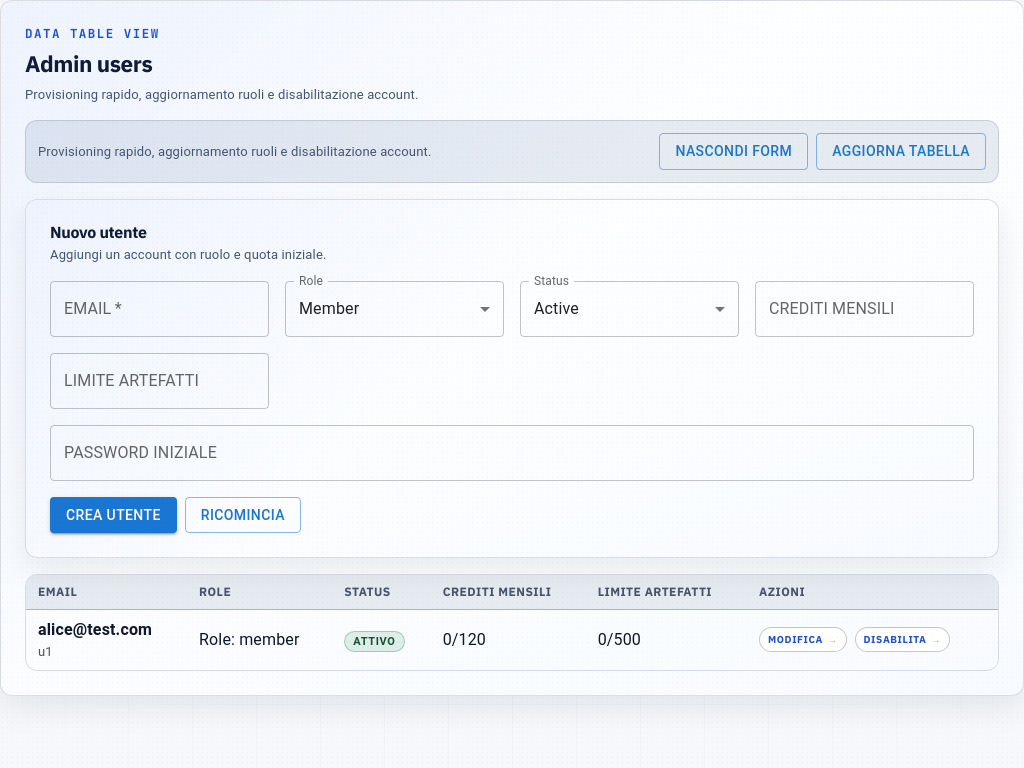
it: AdminUsersPage › disables an existing user
Expected: the text "alice@test.com" is shown, [38,620,152,639]
Click the button "Disabilita": (902, 640) [854,627,950,652]
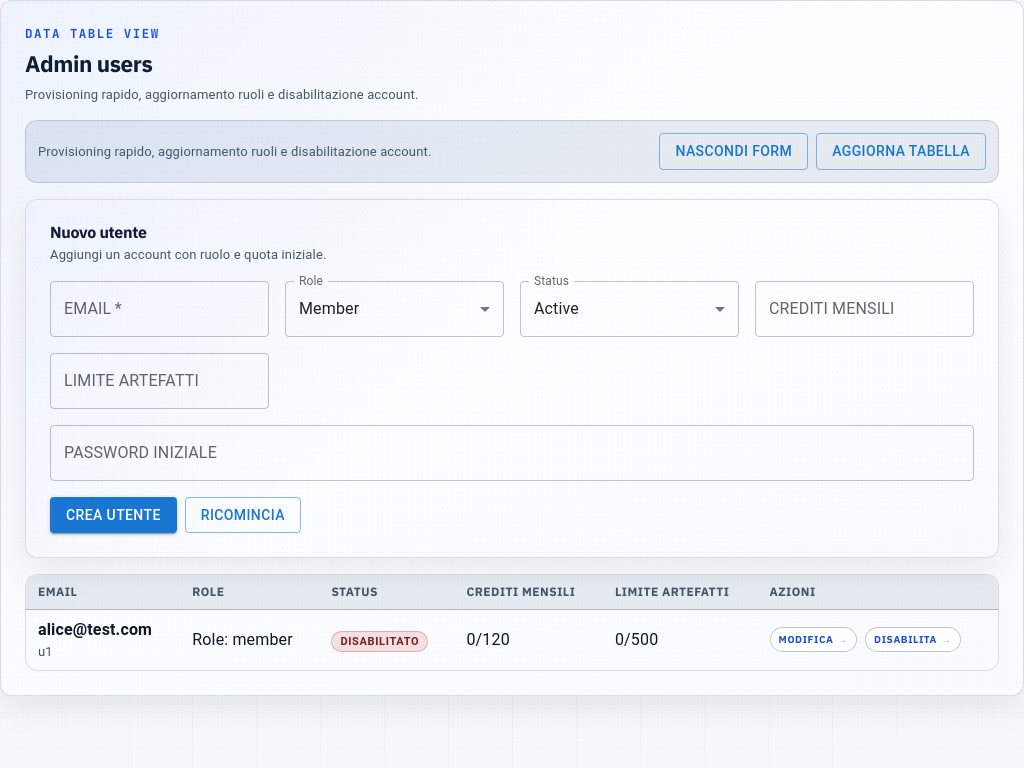
Expected: the text "Disabilitato" is shown, [331,631,428,652]
